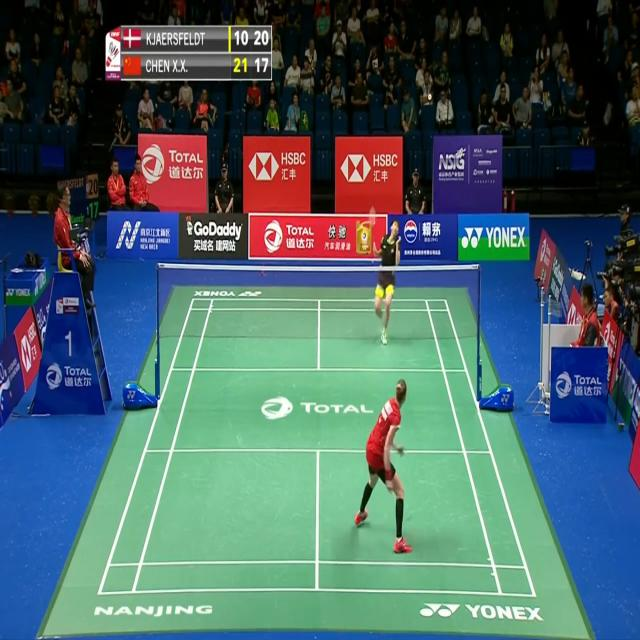Player1: (353, 368, 415, 564)
Player2: (365, 203, 406, 352)
